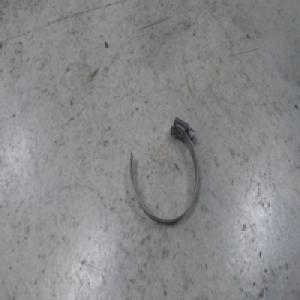AdjustableClamp: (129, 117, 199, 224)
